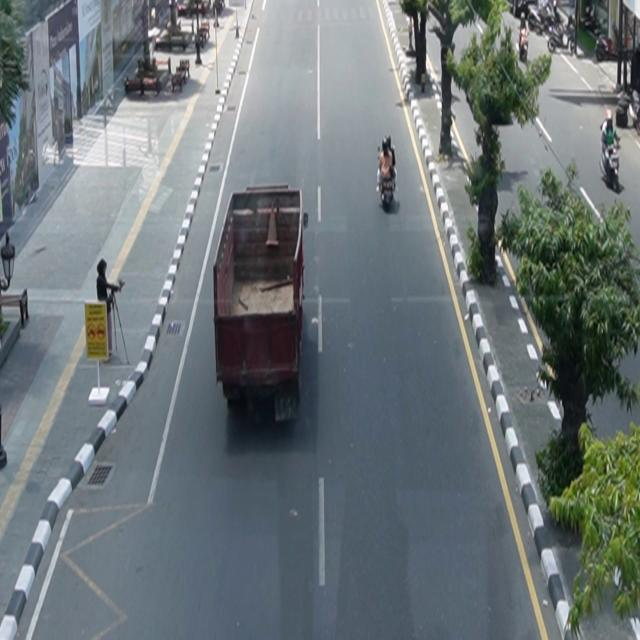truck: (213, 184, 309, 425)
